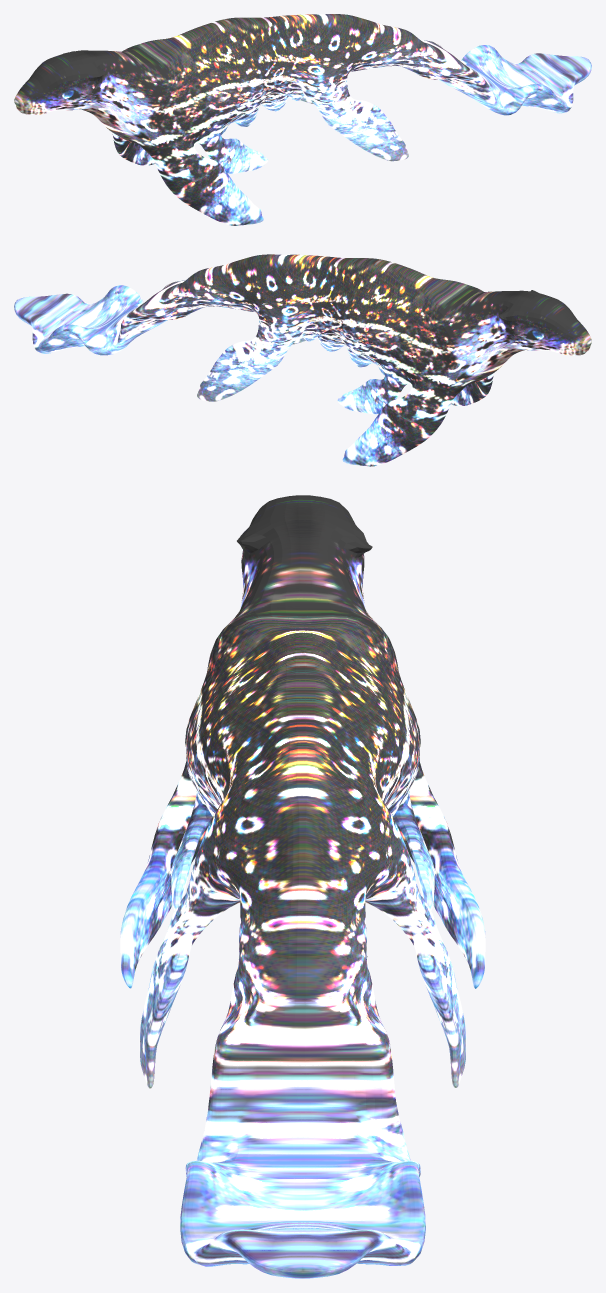
File: sealisaur.glb
The picture shows the model from 3 angles, top to bottom: view 1: azimuth 30°, elevation 25°; view 2: azimuth 150°, elevation 25°; view 3: azimuth 270°, elevation 25°; orthographic projection. The views are drawn at different scales.
Visible parts, largest first — view 1: sealisaur; view 2: sealisaur; view 3: sealisaur.
Part boxes in pixels (x1=…): sealisaur: x1=14, y1=14, x2=591, y2=225; sealisaur: x1=14, y1=254, x2=591, y2=466; sealisaur: x1=120, y1=495, x2=485, y2=1278.
Size of the model in its own units: 9.12 by 2.59 by 2.52.
1 material, 1 textured.
